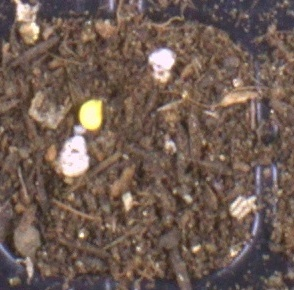chilli seed: (79, 99, 103, 130)
